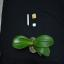leaf: (33, 34, 54, 46), (12, 36, 32, 48), (33, 44, 50, 56)
